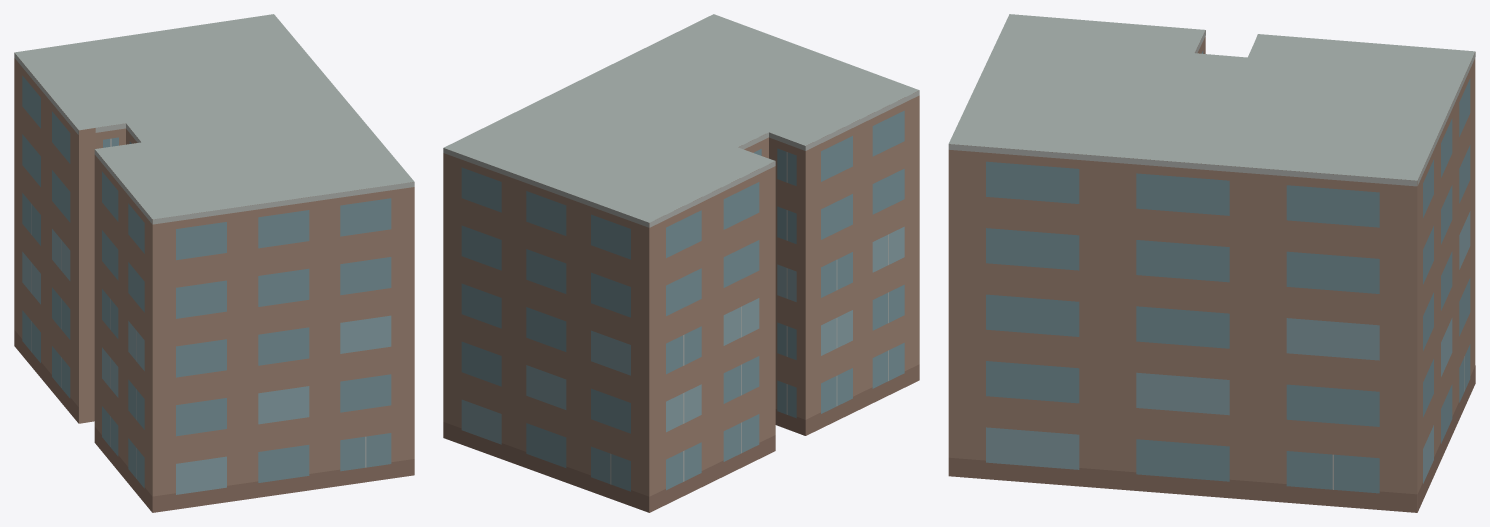
File: survey-upis-32652405.glb
3 views of the same model, side by side, from view 1: azimuth 30°, elevation 25°; view 2: azimuth 150°, elevation 25°; view 3: azimuth 270°, elevation 25° (orthographic). The views are drawn at different scales.
Parts seen in each view (by area): view 1: survey-upis-32652405.tmp; view 2: survey-upis-32652405.tmp; view 3: survey-upis-32652405.tmp.
Part boxes in pixels (box(x1,y1,x2,y2)): survey-upis-32652405.tmp: box(14, 14, 414, 512); survey-upis-32652405.tmp: box(443, 14, 919, 512); survey-upis-32652405.tmp: box(948, 14, 1475, 512).
Size of the model in its own units: 15.02 by 13.95 by 20.06.
